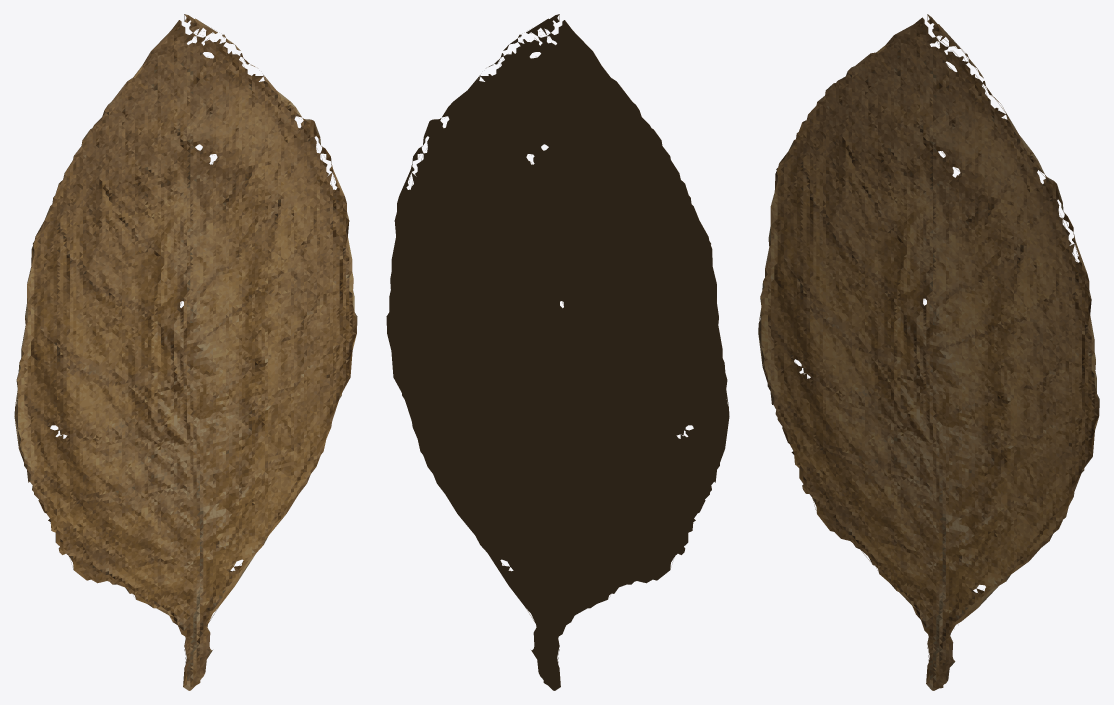
File: 20260828_185200713_iOS.obj
3 views of the same model, side by side, from view 1: azimuth 30°, elevation 25°; view 2: azimuth 150°, elevation 25°; view 3: azimuth 330°, elevation 25° (orthographic).
Parts seen in each view (by area): view 1: 20260828_185200713_iOS; view 2: 20260828_185200713_iOS; view 3: 20260828_185200713_iOS.
Boxes of the visible parts, x1=… form: 20260828_185200713_iOS: x1=14, y1=14, x2=357, y2=690; 20260828_185200713_iOS: x1=386, y1=14, x2=729, y2=690; 20260828_185200713_iOS: x1=758, y1=14, x2=1099, y2=690.
Bounding box in the file's own units: 316 × 598 × 0.3.
